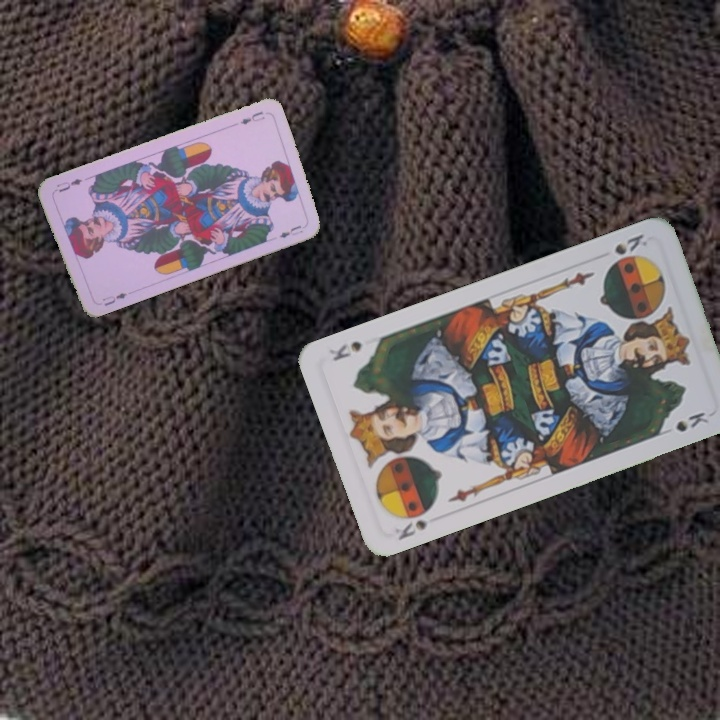EU: (98, 289, 130, 309), (237, 107, 268, 127)
SK: (391, 515, 432, 544), (610, 230, 650, 258)
